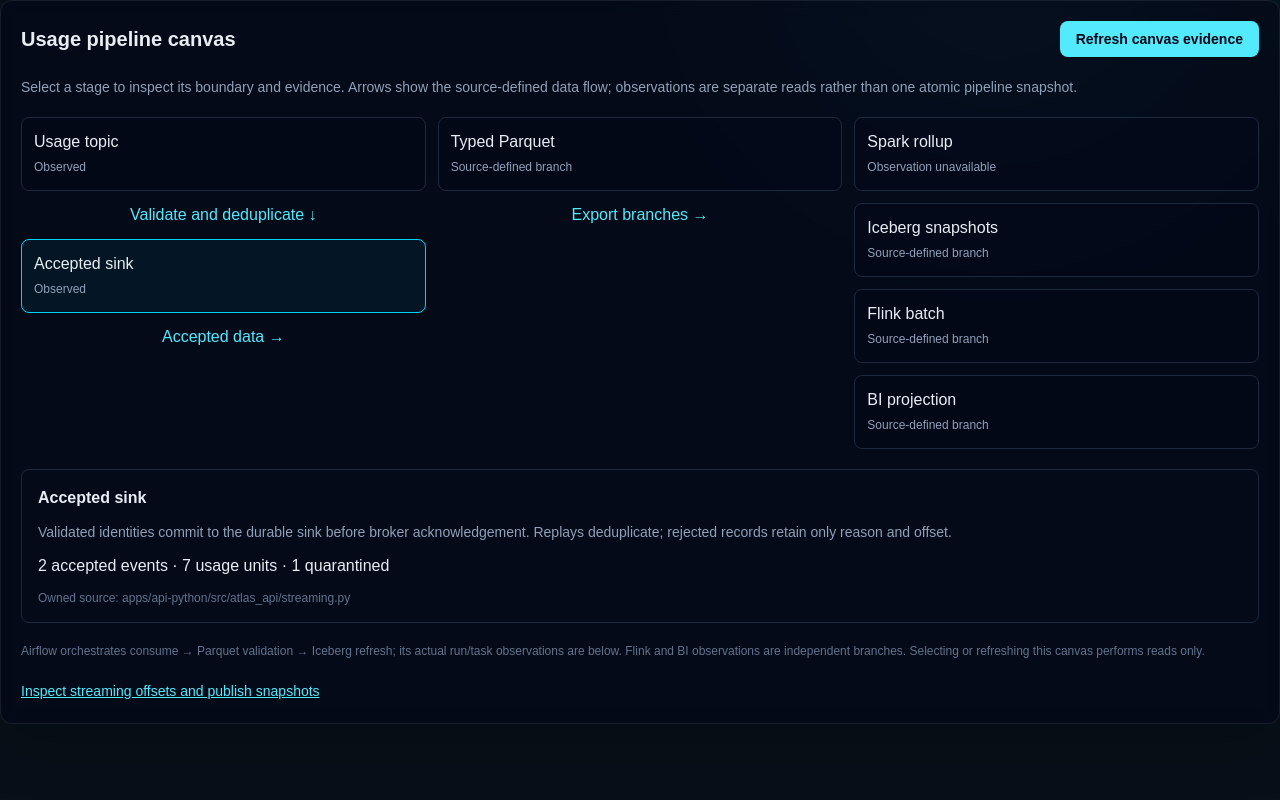
Test: keeps valid streaming evidence when compute fails contract validation
The image size is (1280, 800).
Expected: the text "2 accepted events · 7 usage units · 1 quarantined" is shown, [38, 557, 389, 574]
Click the button "Spark rollup Observation unavailable" at (910, 142), box [854, 117, 1259, 191]
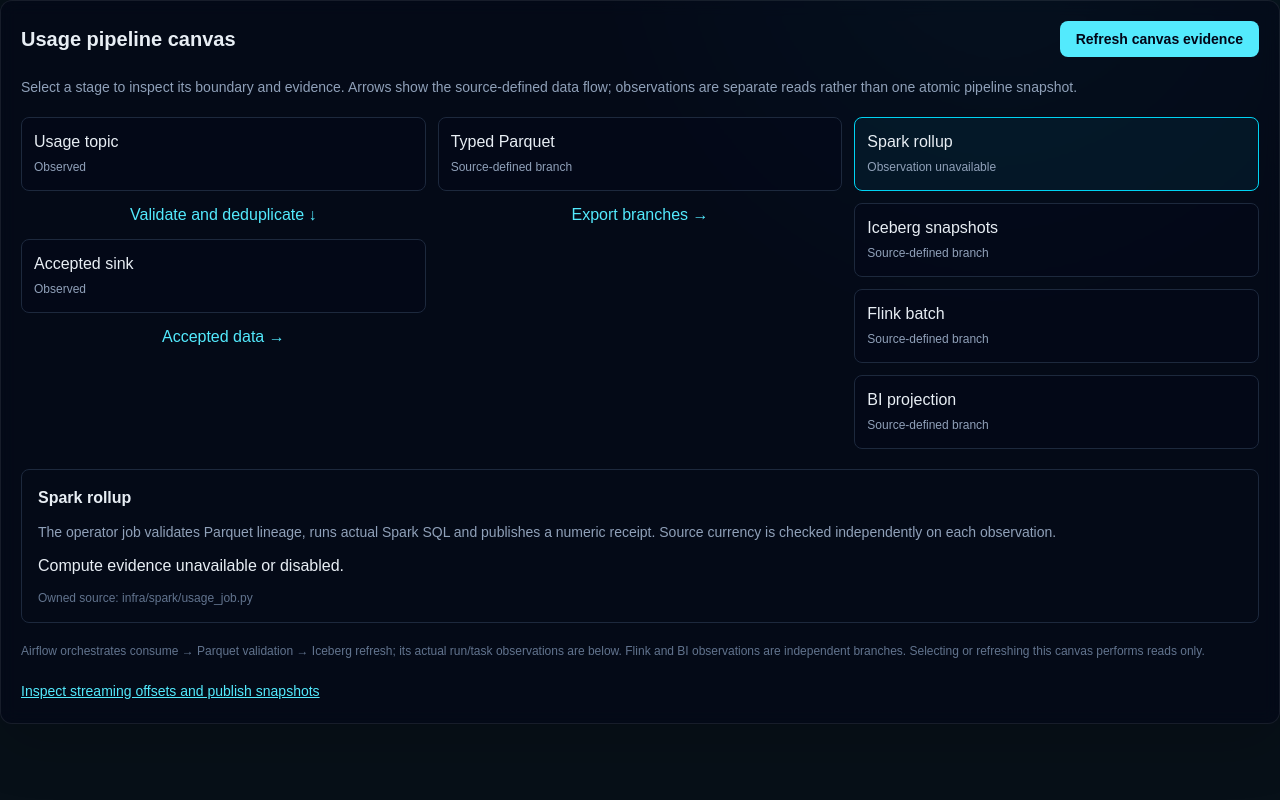
Expected: the text "Compute evidence unavailable or disabled." is shown, [38, 557, 344, 574]
